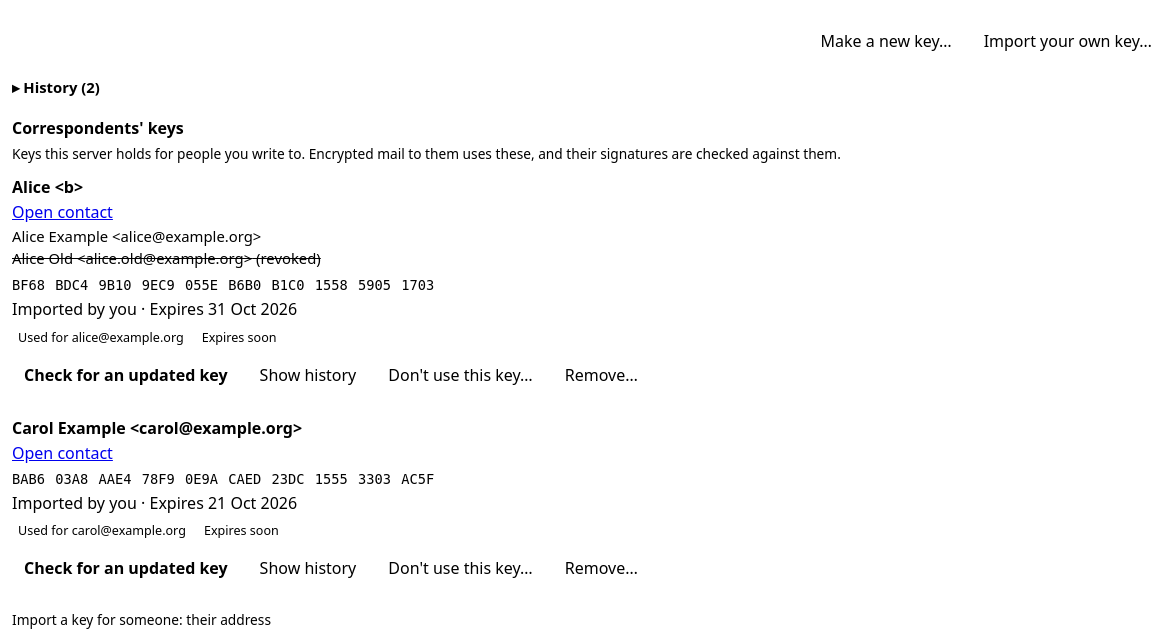
Test: Check for an updated key (#818) › a check too soon after the last says when to try again
(page scrolled)
Click the button with class "key-refresh" below "Carol Example <carol@example.org>": click(126, 569) [12, 550, 240, 588]
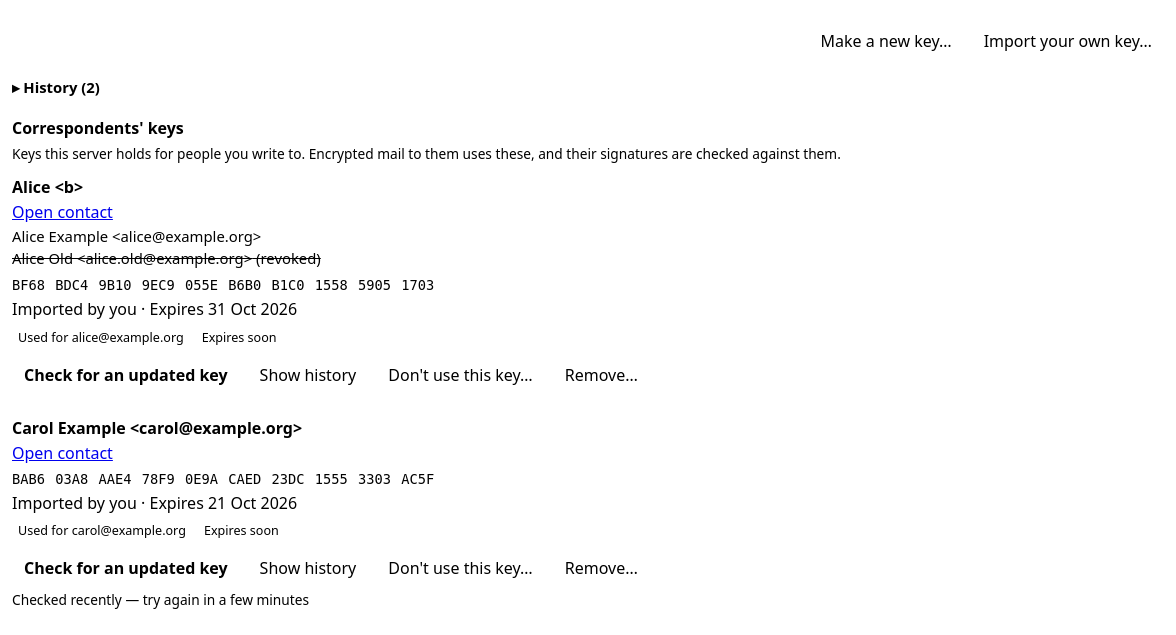
Now the message with class "key-refresh-result" reads "Checked recently — try again in a few minutes", box [12, 590, 309, 610]
